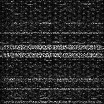lte: (1, 44, 104, 50), (1, 52, 104, 58), (1, 86, 104, 90), (1, 100, 104, 104), (1, 77, 104, 81), (1, 31, 104, 35)
